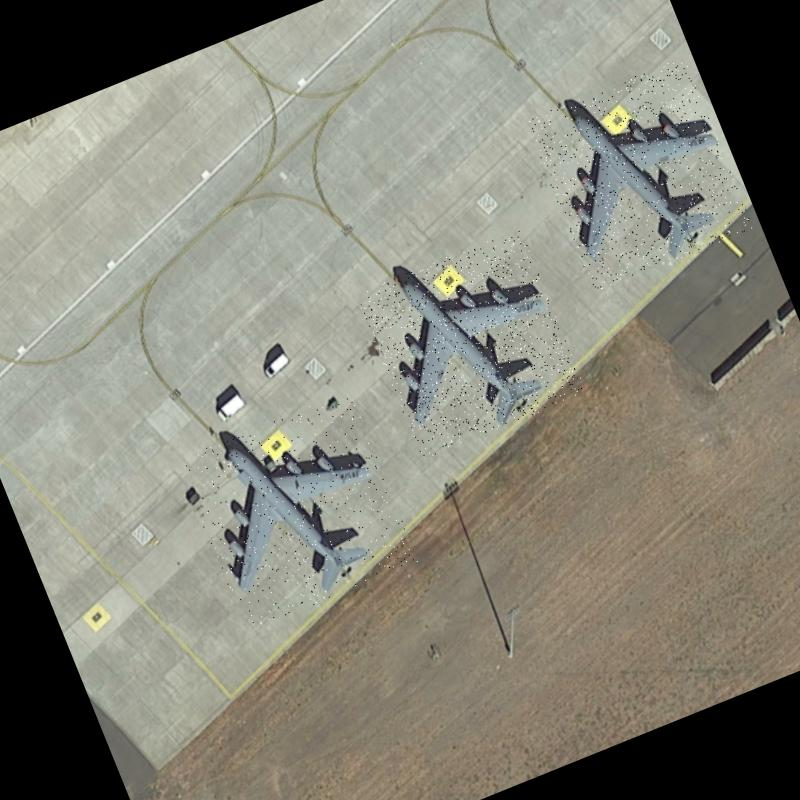A14: (176, 389, 420, 632), (524, 55, 754, 292), (354, 226, 586, 460)
